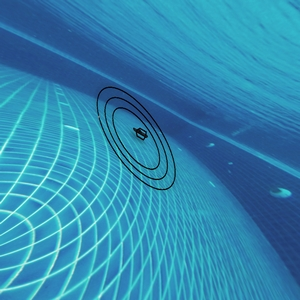circle: (92, 73, 212, 226)
